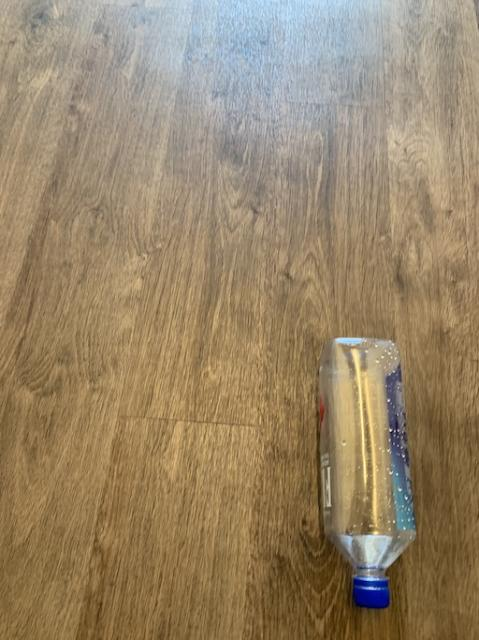plastic: (319, 336, 414, 606)
